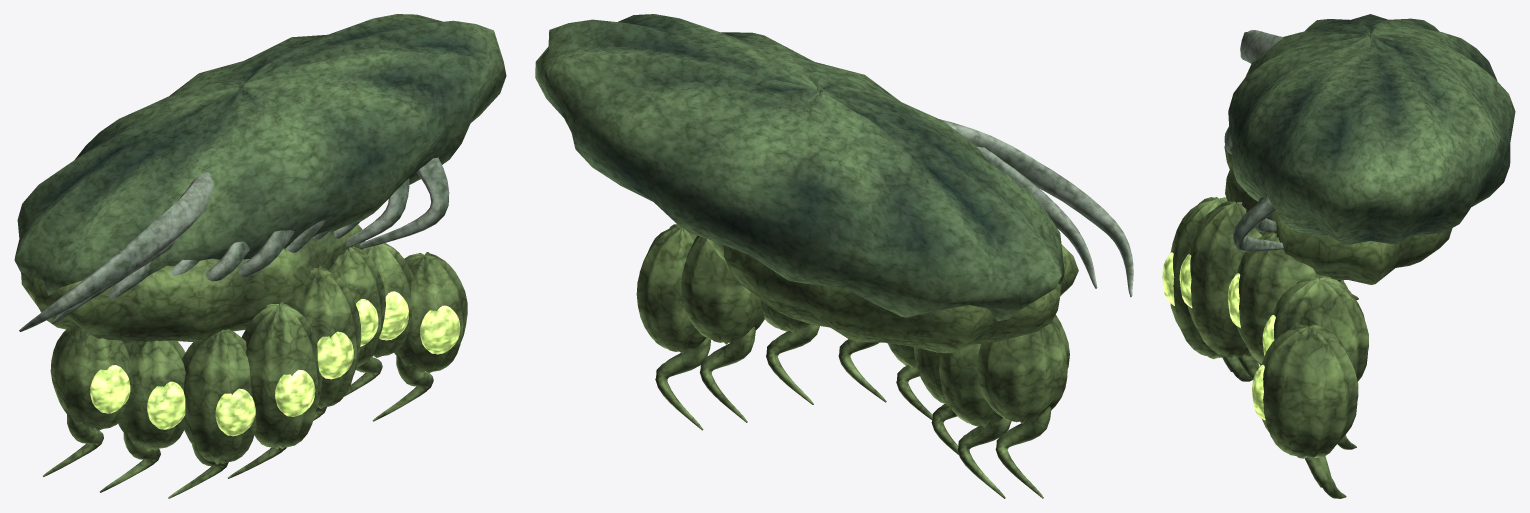
Rendered from spore-regent.glb.
3 views of the same model, side by side, from view 1: azimuth 30°, elevation 25°; view 2: azimuth 150°, elevation 25°; view 3: azimuth 270°, elevation 25° (orthographic). The views are drawn at different scales.
Parts seen in each view (by area): view 1: spore-regent_carapace, spore-regent_membrane, spore-regent_rib, spore-regent_signal; view 2: spore-regent_carapace, spore-regent_membrane, spore-regent_rib; view 3: spore-regent_carapace, spore-regent_membrane, spore-regent_rib, spore-regent_signal.
Boxes of the visible parts, <box> form: spore-regent_carapace: <box>14,14,506,295</box>; spore-regent_membrane: <box>21,224,467,498</box>; spore-regent_rib: <box>19,157,449,331</box>; spore-regent_signal: <box>90,291,460,436</box>; spore-regent_carapace: <box>535,14,1064,321</box>; spore-regent_membrane: <box>636,224,1078,498</box>; spore-regent_rib: <box>939,119,1133,297</box>; spore-regent_carapace: <box>1228,14,1515,244</box>; spore-regent_membrane: <box>1170,146,1452,498</box>; spore-regent_rib: <box>1224,30,1283,251</box>; spore-regent_signal: <box>1162,252,1275,420</box>.
Bounding box in the file's own units: 3.21 × 2.25 × 1.72.
4 materials, 4 textured.
